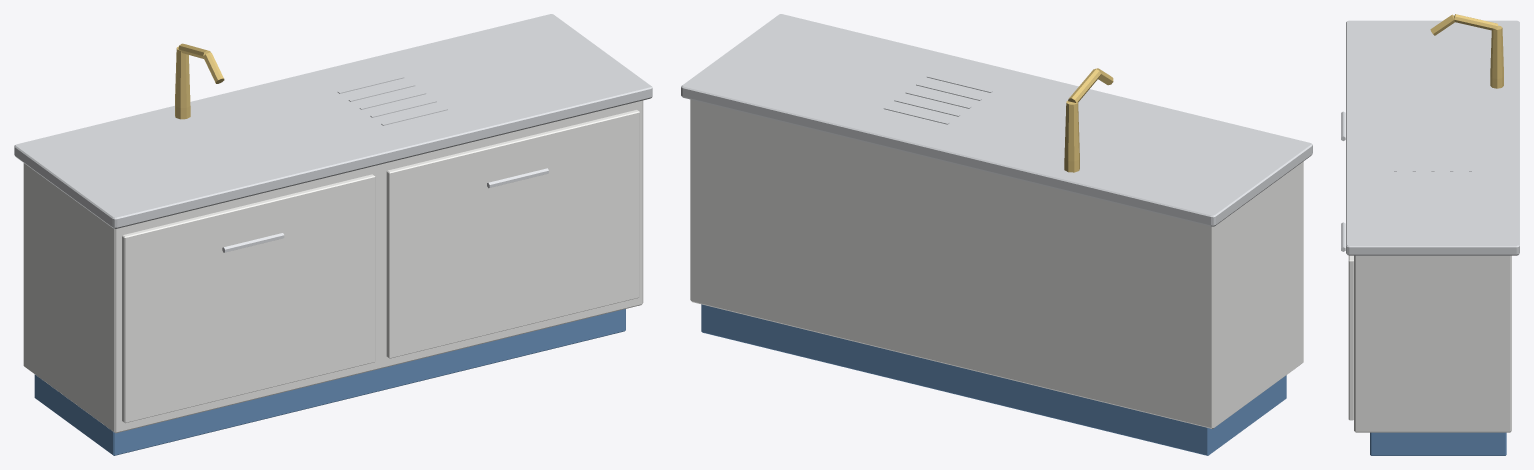
3 views of the same model, side by side, from view 1: azimuth 30°, elevation 25°; view 2: azimuth 150°, elevation 25°; view 3: azimuth 270°, elevation 25° (orthographic). The views are drawn at different scales.
Parts seen in each view (by area): view 1: kitchen-counter-run; view 2: kitchen-counter-run; view 3: kitchen-counter-run.
Part boxes in pixels (x1,y1,x2,y2): kitchen-counter-run: [14, 14, 652, 455]; kitchen-counter-run: [681, 14, 1312, 455]; kitchen-counter-run: [1341, 14, 1519, 455].
Bounding box in the file's own units: 2 × 1.19 × 0.6685.
